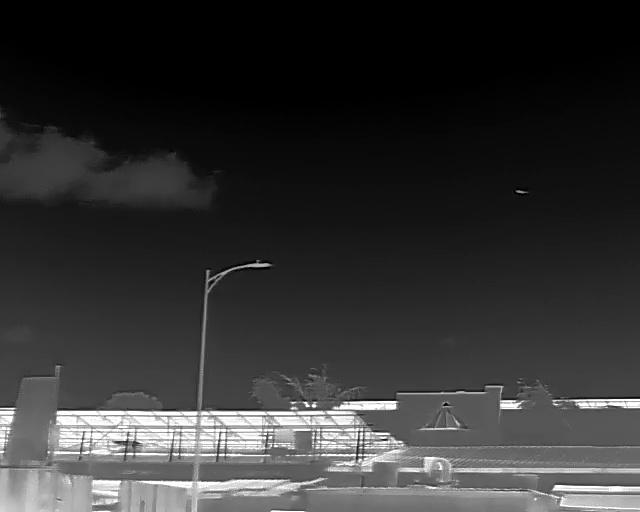fpv-drone: (514, 189, 529, 195)
